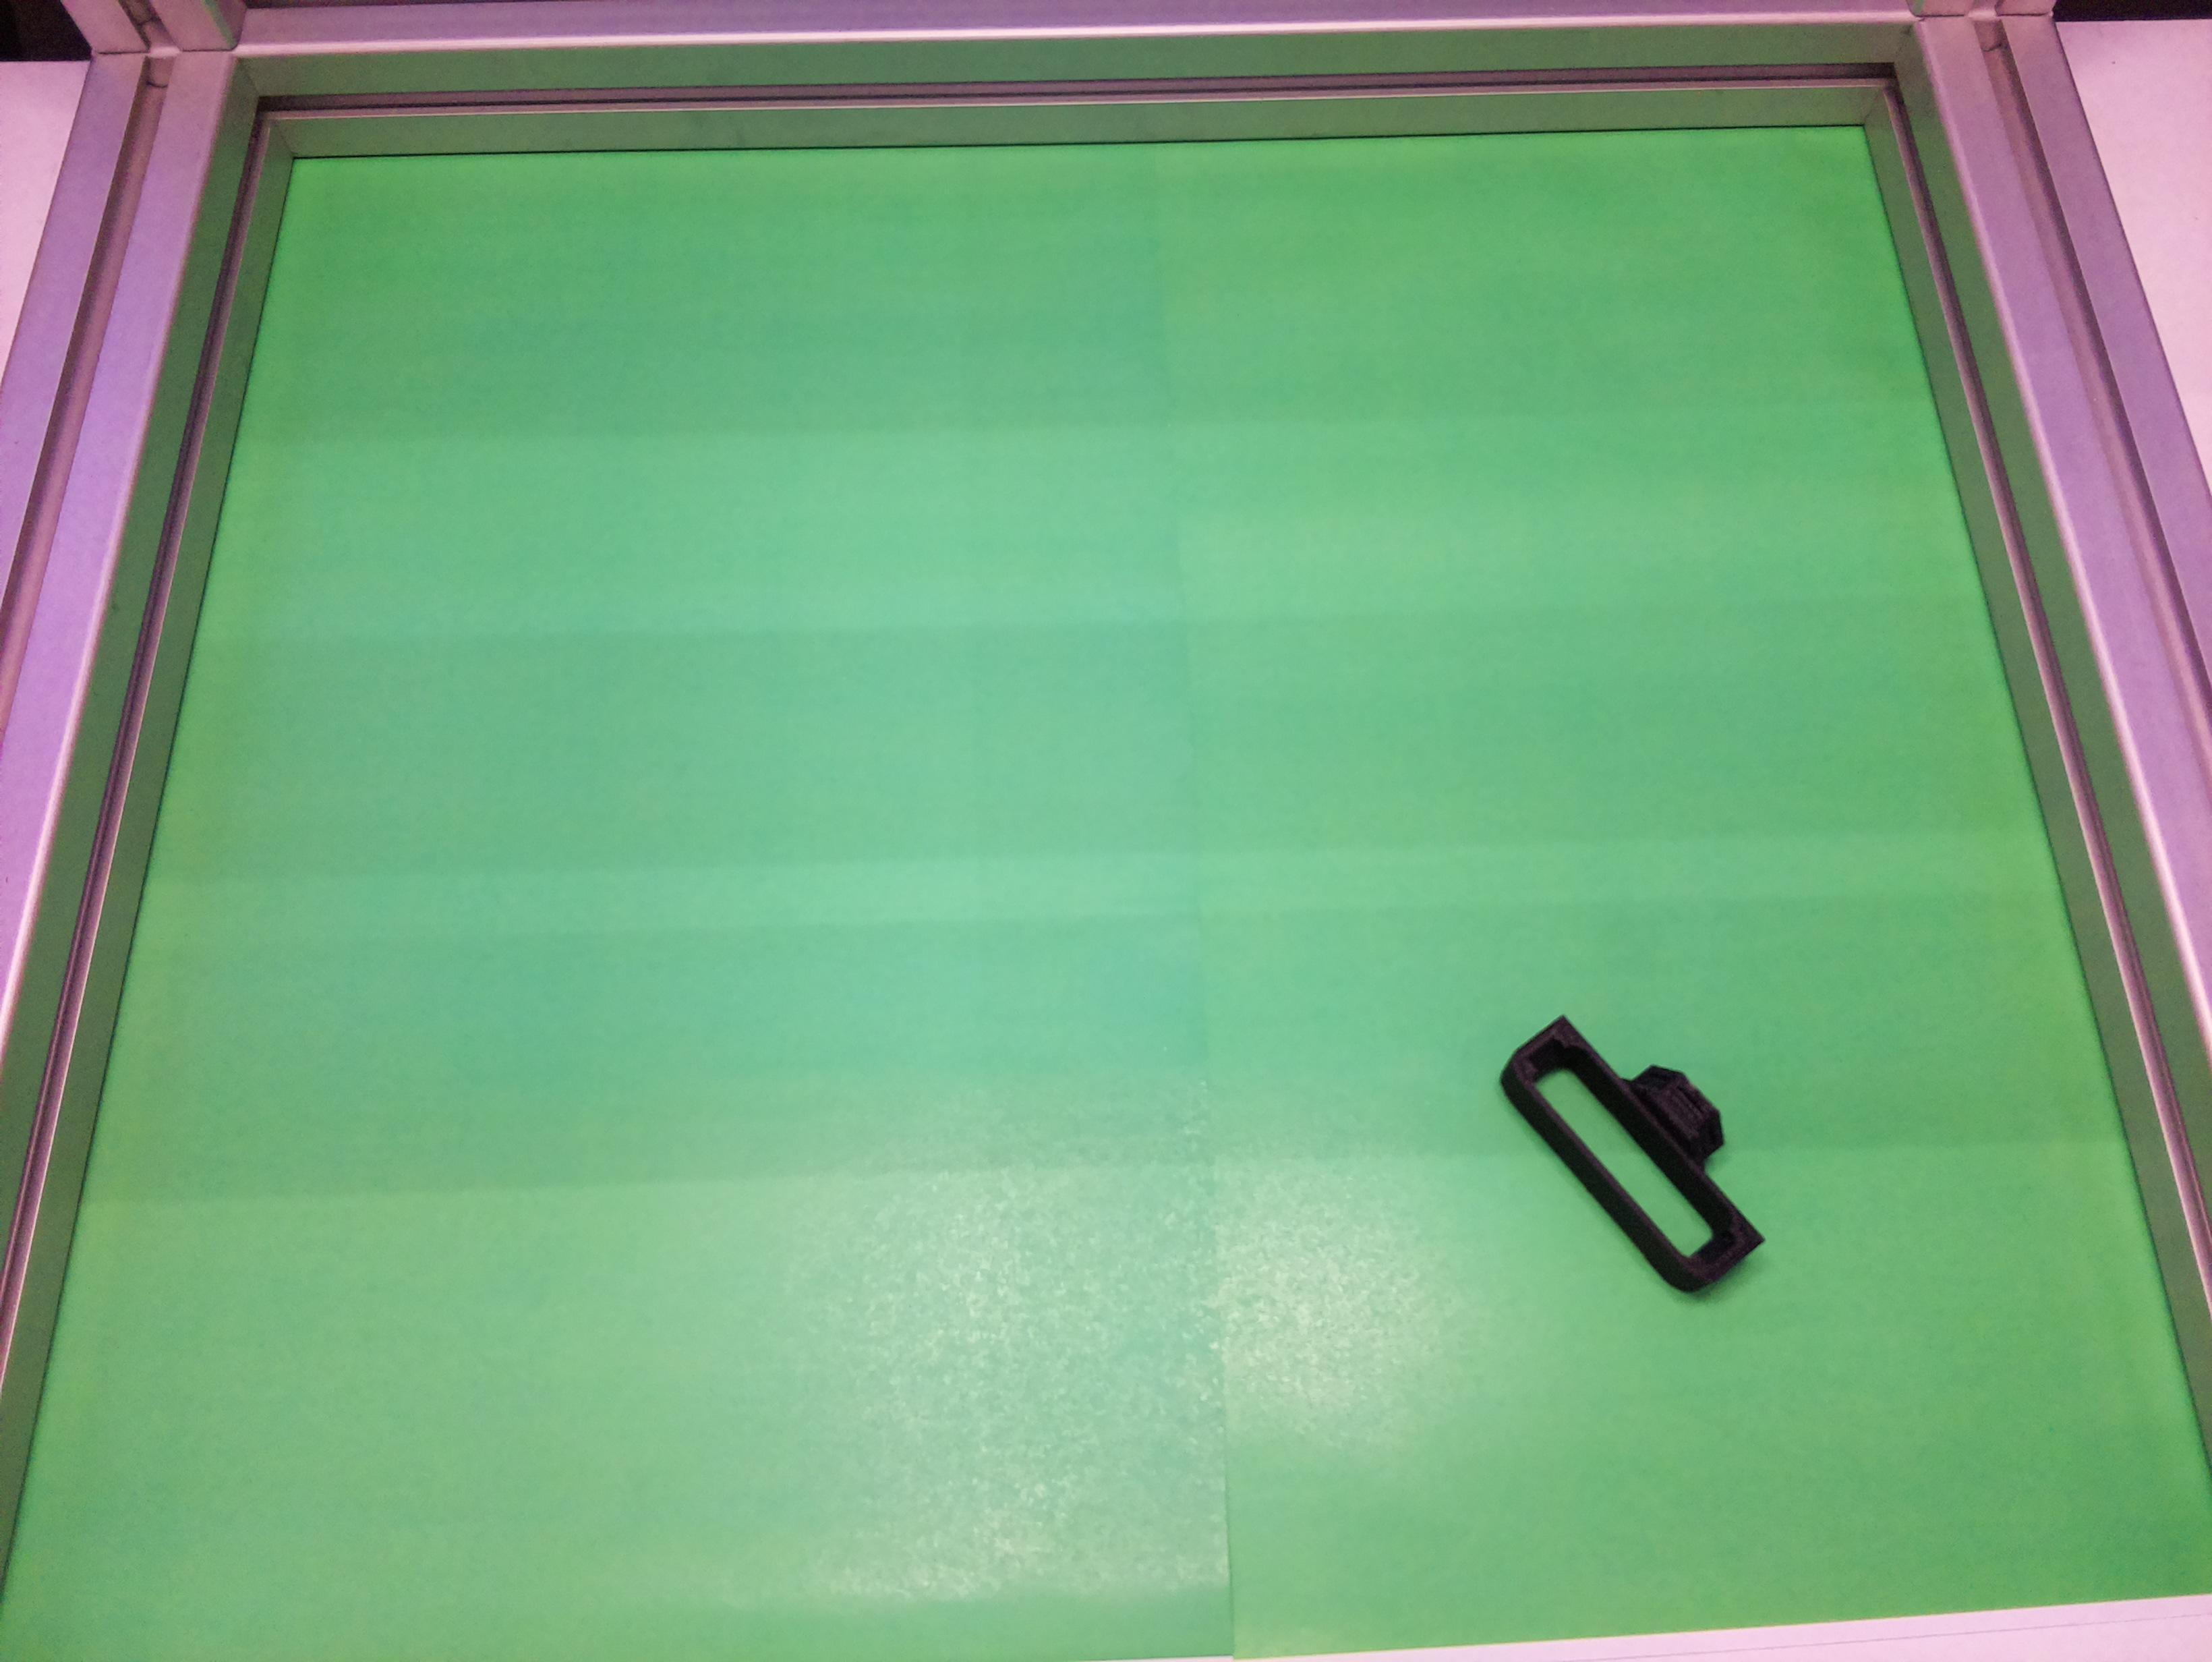cutter_holder: (1482, 978, 1803, 1309)
